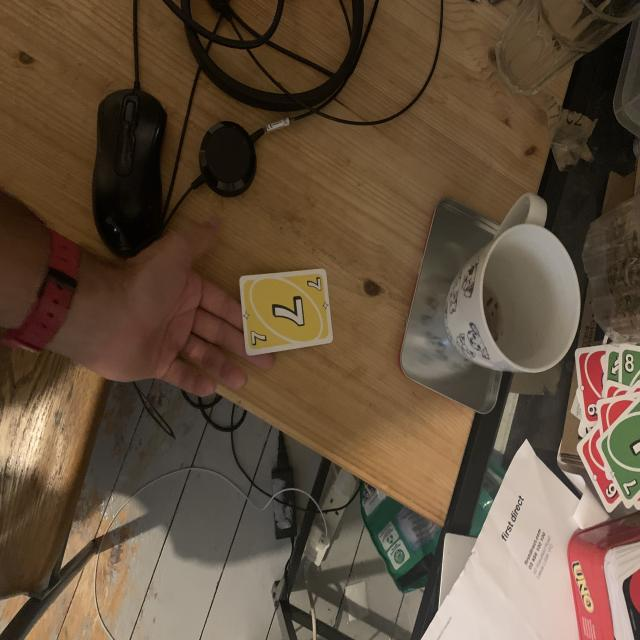lyellow-7: (302, 273, 326, 294)
